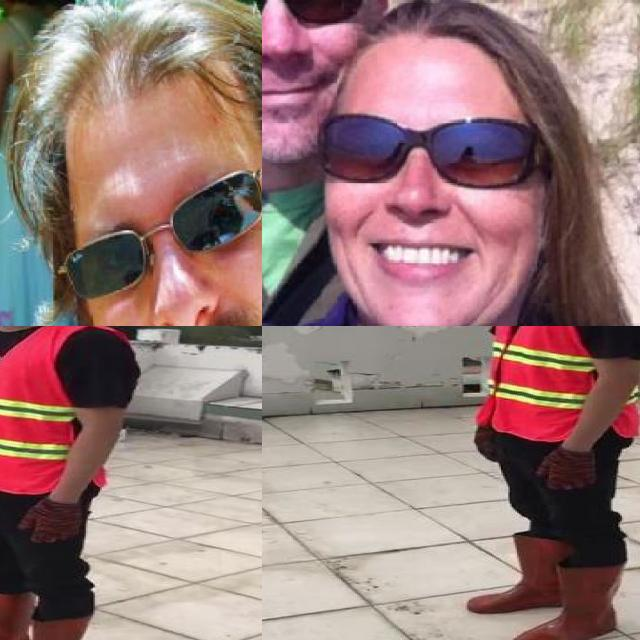boots: (511, 565, 627, 640), (465, 534, 567, 614), (0, 617, 85, 640)
face_nomask: (309, 106, 552, 300), (50, 179, 262, 326), (262, 0, 359, 118)
glasses: (56, 167, 262, 316), (314, 109, 533, 198), (262, 0, 370, 33)
hand_glove: (13, 502, 88, 542), (535, 448, 597, 488)
head_nohelmet: (25, 0, 262, 113), (312, 0, 564, 83)
person: (442, 326, 640, 640), (0, 326, 149, 640), (0, 0, 106, 326)
vest: (478, 326, 640, 442), (0, 326, 110, 494)
